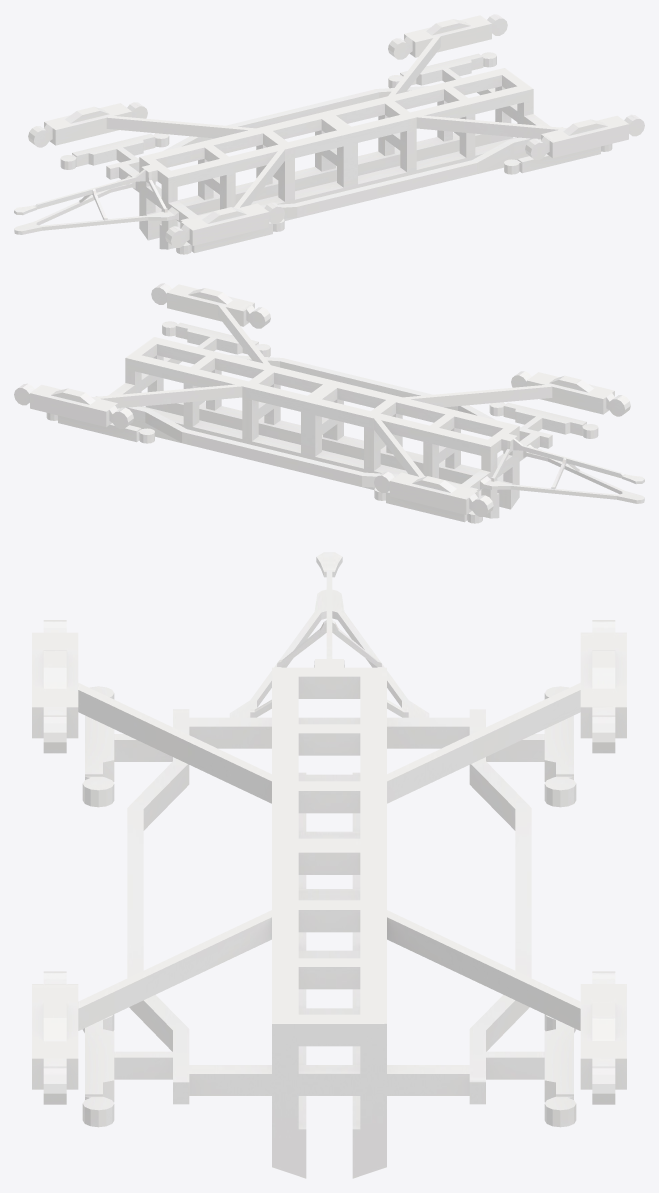
The model's file is HLO_Sled.gltf.
3 renders of one model, top to bottom at view 1: azimuth 30°, elevation 25°; view 2: azimuth 150°, elevation 25°; view 3: azimuth 270°, elevation 25°, orthographic. The views are drawn at different scales.
Visible parts, largest first — view 1: 005_Pod_Sled, 005_Pod_Boogies; view 2: 005_Pod_Sled, 005_Pod_Boogies; view 3: 005_Pod_Sled, 005_Pod_Boogies.
Boxes of the visible parts, x1,y1,x2,y2 form: 005_Pod_Sled: [14, 36, 565, 249]; 005_Pod_Boogies: [28, 14, 644, 254]; 005_Pod_Sled: [93, 305, 644, 518]; 005_Pod_Boogies: [14, 283, 630, 523]; 005_Pod_Sled: [78, 552, 580, 1178]; 005_Pod_Boogies: [32, 620, 626, 1127].
Bounding box in the file's own units: 5.95 × 0.8449 × 2.74.
2 materials, 2 textured.
